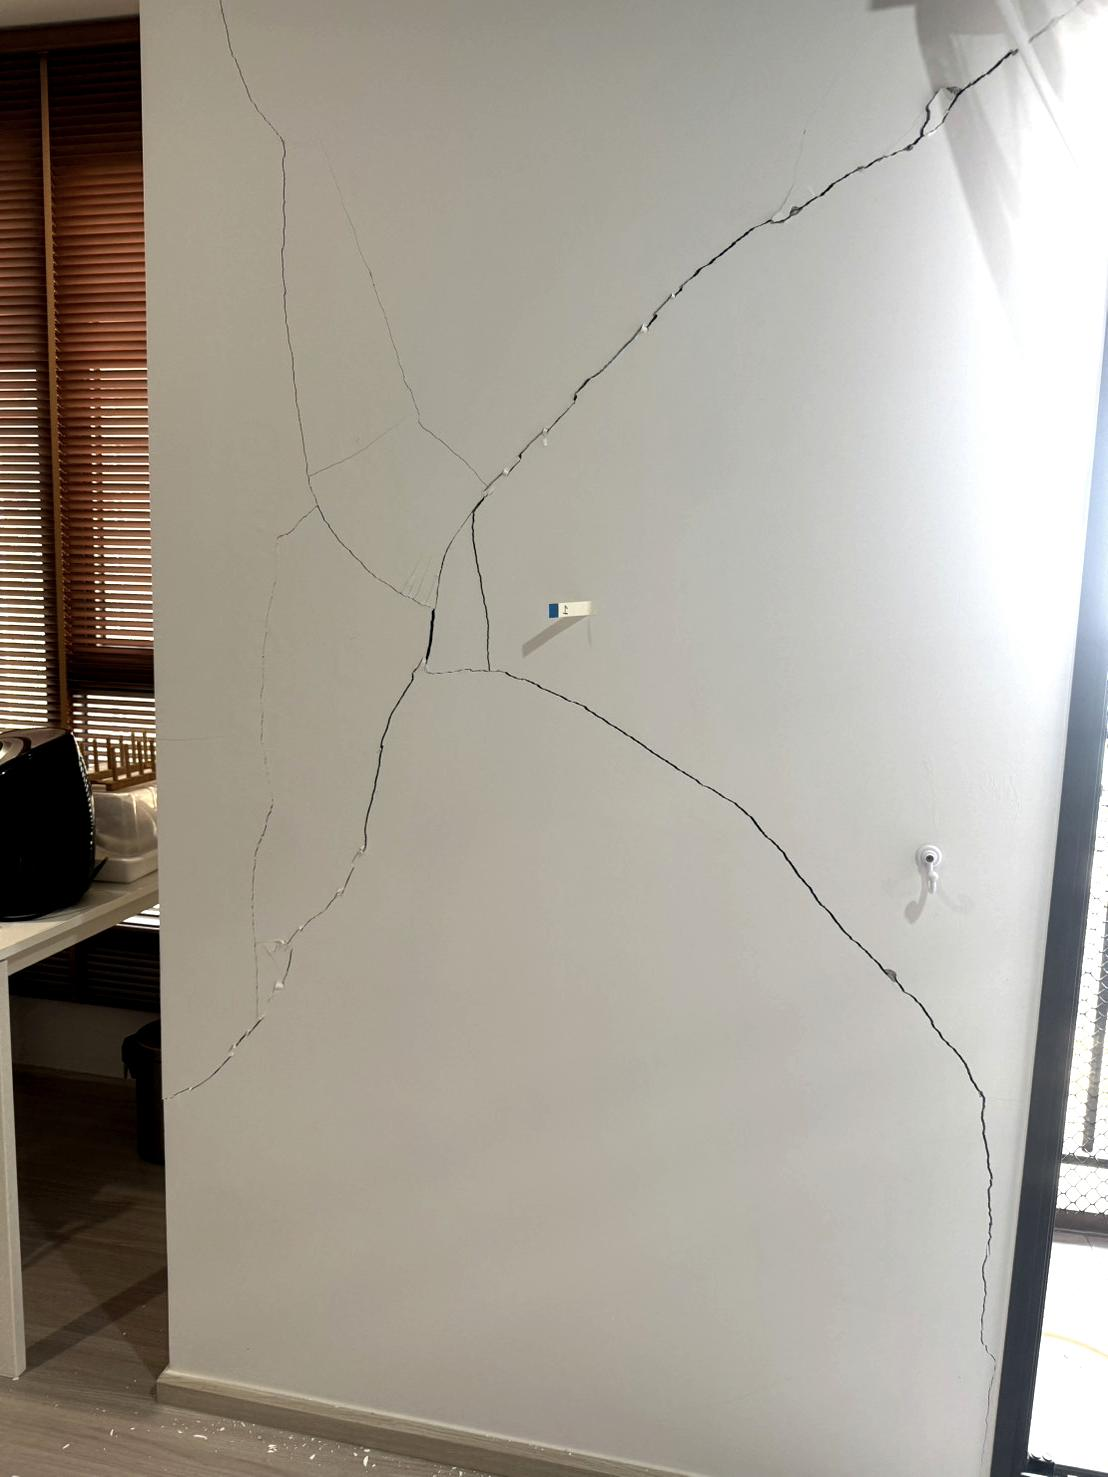High: (148, 6, 1020, 1250)
